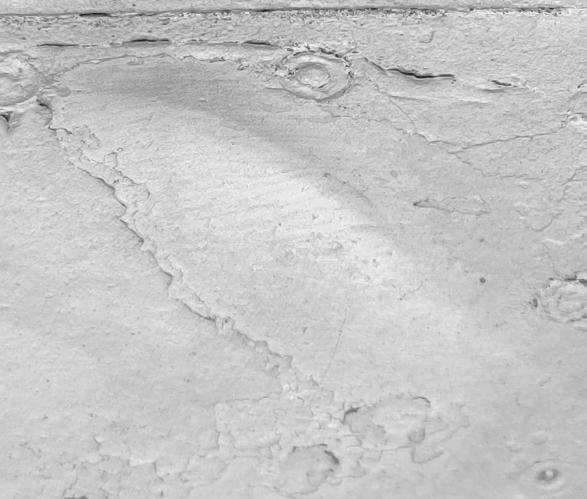dent: (0, 1, 587, 499)
